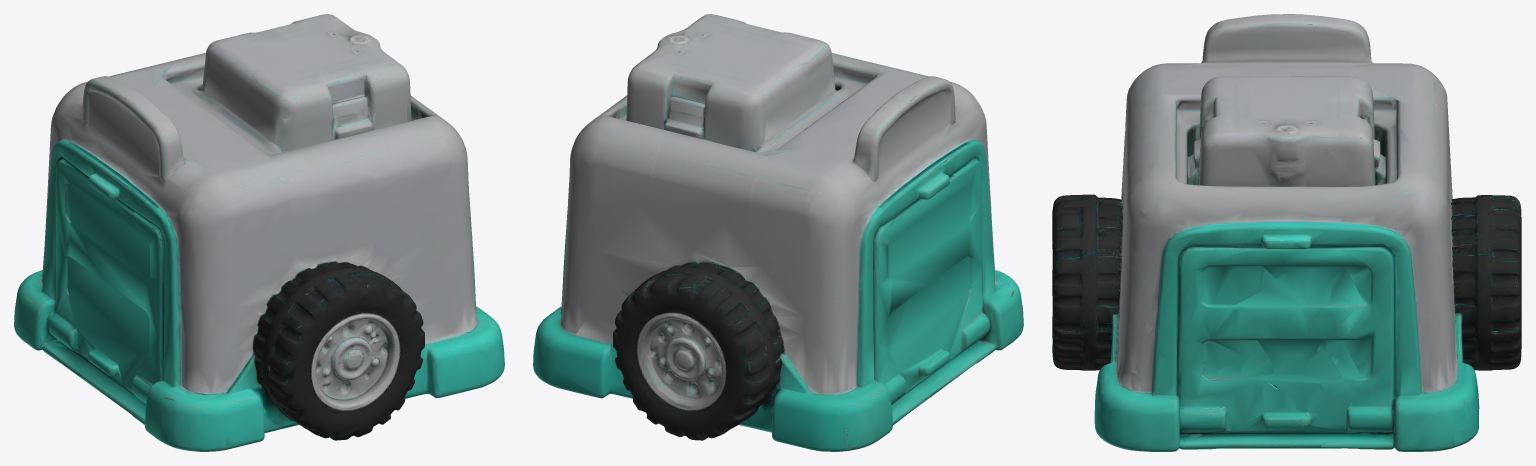
File: garage.glb
3 renders of one model, left to right at view 1: azimuth 30°, elevation 25°; view 2: azimuth 150°, elevation 25°; view 3: azimuth 270°, elevation 25°, orthographic.
Parts seen in each view (by area): view 1: Mesh_0; view 2: Mesh_0; view 3: Mesh_0.
Boxes of the visible parts, x1,y1,x2,y2 form: Mesh_0: (14,14,504,451); Mesh_0: (533,14,1023,451); Mesh_0: (1052,14,1521,451).
Bounding box in the file's own units: 1.61 × 1.32 × 1.91.
1 material, 1 textured.
